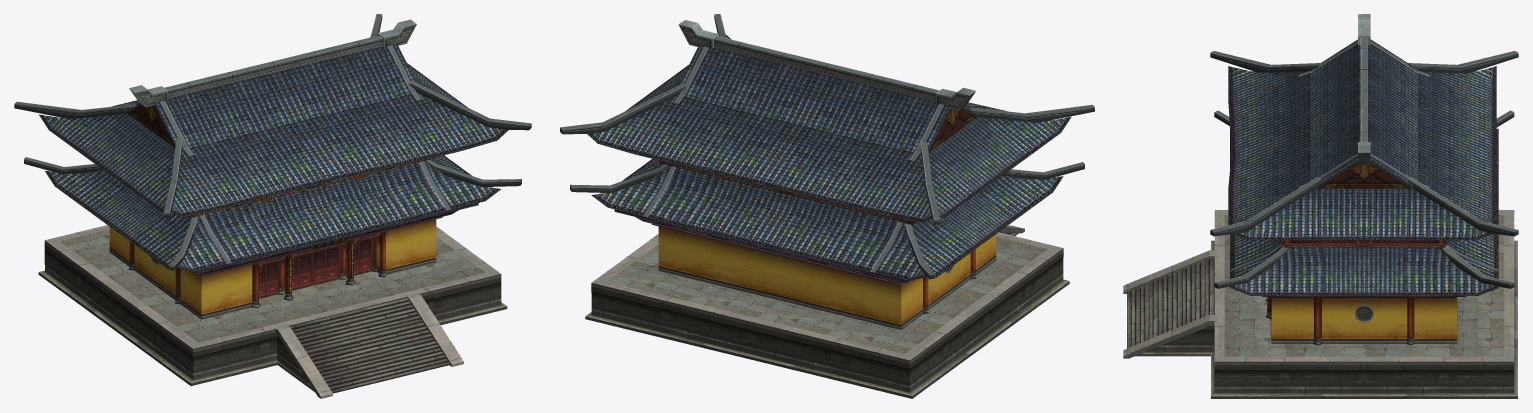
Rendered from Maincity06_Building_sm03_LOD1.FBX.
3 renders of one model, left to right at view 1: azimuth 30°, elevation 25°; view 2: azimuth 150°, elevation 25°; view 3: azimuth 270°, elevation 25°, orthographic. The views are drawn at different scales.
Parts seen in each view (by area): view 1: Maincity06_Building_sm03_LOD1; view 2: Maincity06_Building_sm03_LOD1; view 3: Maincity06_Building_sm03_LOD1.
Part boxes in pixels (x1=…): Maincity06_Building_sm03_LOD1: x1=14, y1=14, x2=531, y2=398; Maincity06_Building_sm03_LOD1: x1=560, y1=14, x2=1094, y2=398; Maincity06_Building_sm03_LOD1: x1=1123, y1=14, x2=1518, y2=398.
Size of the model in its own units: 3054 by 1887 by 2816.
